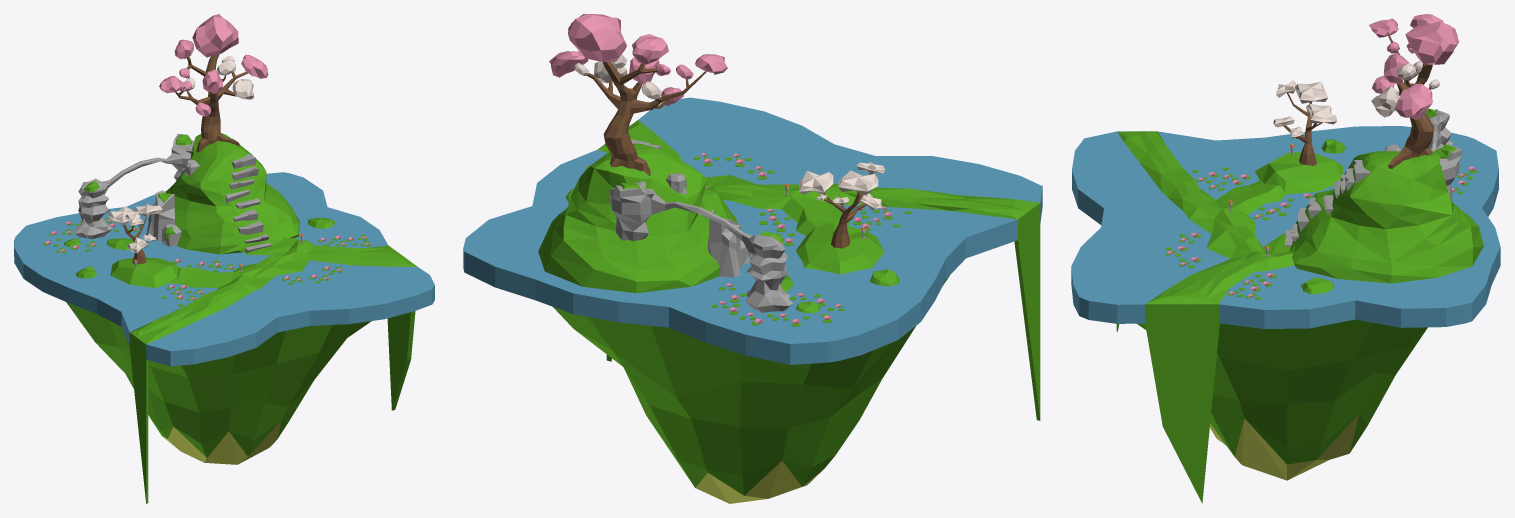
The model's file is Island_17.glb.
3 views of the same model, side by side, from view 1: azimuth 30°, elevation 25°; view 2: azimuth 150°, elevation 25°; view 3: azimuth 270°, elevation 25° (orthographic). The views are drawn at different scales.
Visible parts, largest first — view 1: Islands_17_Base, Islands_17_Tree_2, Islands_17_Tree_1; view 2: Islands_17_Base, Islands_17_Tree_2, Islands_17_Tree_1; view 3: Islands_17_Base, Islands_17_Tree_2, Islands_17_Tree_1.
Part boxes in pixels (x1,y1,x2,y2): Islands_17_Base: (14, 133, 434, 503); Islands_17_Tree_2: (159, 14, 268, 152); Islands_17_Tree_1: (108, 203, 162, 263); Islands_17_Base: (463, 97, 1042, 503); Islands_17_Tree_2: (549, 14, 727, 175); Islands_17_Tree_1: (799, 161, 884, 248); Islands_17_Base: (1071, 108, 1500, 503); Islands_17_Tree_2: (1369, 14, 1459, 168); Islands_17_Tree_1: (1273, 80, 1337, 165).
Size of the model in its own units: 21.29 by 25.86 by 20.97.
1 material, 1 textured.
